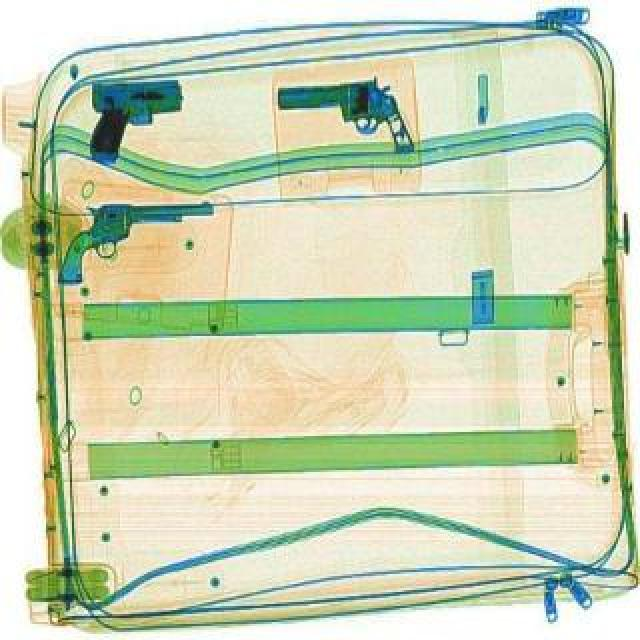gun: (56, 202, 216, 282), (274, 76, 414, 162), (86, 78, 186, 164)
